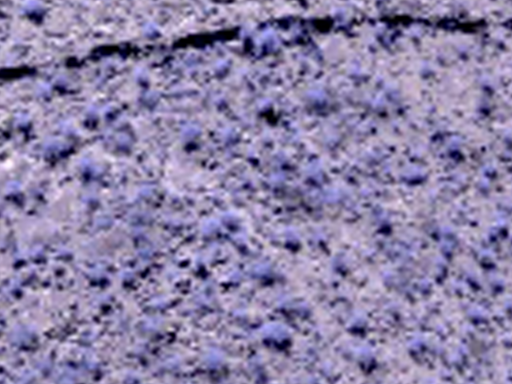agave: (254, 315, 296, 355), (302, 85, 341, 116), (44, 67, 77, 103), (84, 255, 119, 288), (39, 135, 78, 164), (72, 154, 107, 184), (254, 26, 283, 62), (177, 119, 208, 152), (342, 304, 373, 337), (18, 1, 55, 28), (278, 223, 309, 255), (434, 224, 462, 259), (350, 343, 382, 373), (11, 104, 40, 137), (399, 160, 432, 189), (200, 348, 230, 379), (204, 53, 240, 78), (99, 99, 129, 129), (363, 88, 393, 118), (369, 203, 395, 236), (256, 95, 285, 124), (79, 100, 103, 134), (198, 210, 224, 241), (440, 130, 467, 159), (127, 61, 153, 90), (2, 178, 29, 205), (466, 301, 490, 331), (59, 117, 84, 143), (430, 254, 452, 282), (476, 245, 498, 272), (117, 267, 141, 291), (220, 205, 243, 230), (228, 229, 251, 254), (461, 265, 484, 290), (140, 19, 165, 41), (34, 78, 56, 102), (405, 335, 430, 356), (242, 145, 265, 166), (29, 242, 50, 265), (193, 251, 213, 275), (473, 173, 494, 194), (480, 161, 502, 180)
